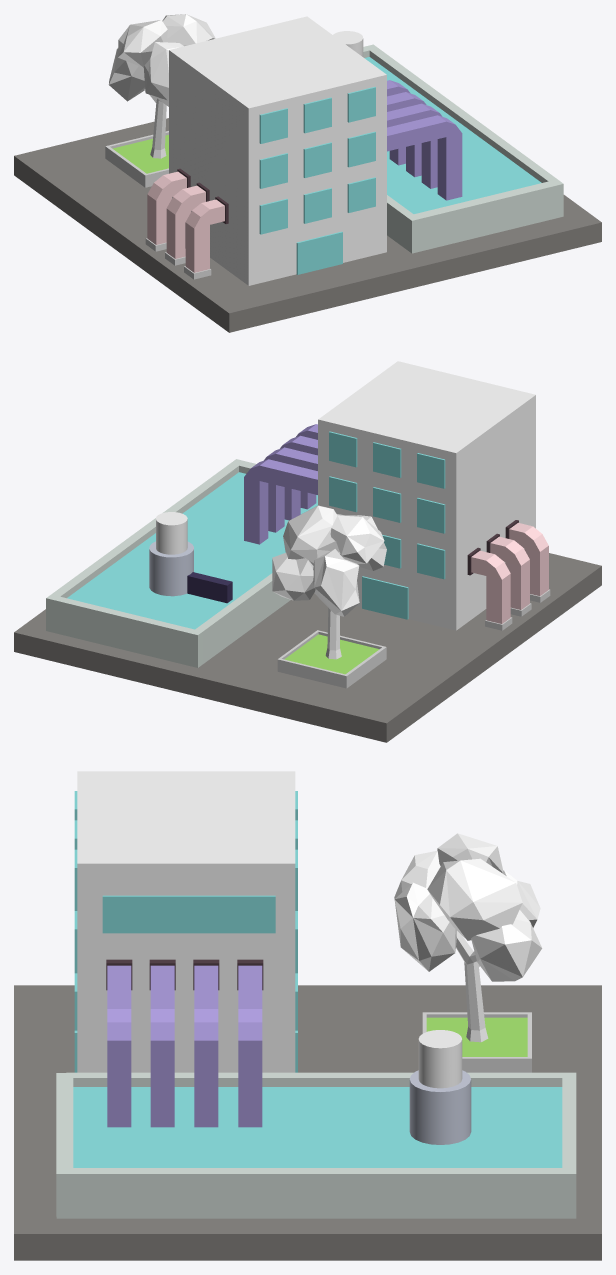
File: depot.glb
3 renders of one model, top to bottom at view 1: azimuth 30°, elevation 25°; view 2: azimuth 150°, elevation 25°; view 3: azimuth 270°, elevation 25°, orthographic. The views are drawn at different scales.
Parts seen in each view (by area): view 1: Cube_1, Cube, Water_Source, Tree_Type0_05, Cube__1_, Tree_Ground, Cube__7_, Cube__5_, Cube__6_, Door__7_, Cube__2_, Cube__3_ (+11 smaller); view 2: Cube_1, Cube, Water_Source, Tree_Type0_05, Tree_Ground, Cube__4_, Cube__5_, Cylinder, Cube__6_, Cube__7_, Door__6_, Cube__3_ (+11 smaller); view 3: Water_Source, Cube, Cube_1, Tree_Type0_05, Window_1, Tree_Ground, Cube__1_, Cube__2_, Cube__3_, Cube__4_, Cylinder, Cylinder__1_.
Boxes of the visible parts, bbox=[...] form: Cube_1: bbox=[169, 16, 386, 285]; Cube: bbox=[14, 118, 601, 332]; Water_Source: bbox=[363, 44, 563, 253]; Tree_Type0_05: bbox=[108, 14, 215, 158]; Cube__1_: bbox=[387, 115, 462, 200]; Tree_Ground: bbox=[105, 131, 168, 187]; Cube__7_: bbox=[185, 199, 224, 272]; Cube__5_: bbox=[147, 171, 186, 244]; Cube__6_: bbox=[166, 185, 205, 258]; Door__7_: bbox=[296, 231, 342, 274]; Cube__2_: bbox=[387, 103, 442, 188]; Cube__3_: bbox=[387, 92, 426, 177]; Cube_1: bbox=[318, 361, 535, 630]; Cube: bbox=[14, 553, 601, 742]; Water_Source: bbox=[46, 459, 317, 667]; Tree_Type0_05: bbox=[272, 505, 386, 659]; Tree_Ground: bbox=[277, 630, 386, 688]; Cube__4_: bbox=[244, 459, 317, 544]; Cube__5_: bbox=[471, 550, 510, 623]; Cylinder: bbox=[149, 541, 193, 596]; Cube__6_: bbox=[490, 536, 529, 609]; Cube__7_: bbox=[509, 522, 548, 595]; Door__6_: bbox=[362, 576, 408, 619]; Cube__3_: bbox=[264, 447, 317, 532]; Water_Source: bbox=[56, 1072, 576, 1218]; Cube: bbox=[14, 985, 601, 1260]; Cube_1: bbox=[77, 771, 295, 1072]; Tree_Type0_05: bbox=[394, 833, 542, 1042]; Window_1: bbox=[102, 895, 275, 933]; Tree_Ground: bbox=[422, 1012, 531, 1072]; Cube__1_: bbox=[107, 965, 131, 1127]; Cube__2_: bbox=[150, 965, 174, 1127]; Cube__3_: bbox=[194, 965, 218, 1127]; Cube__4_: bbox=[238, 965, 262, 1127]; Cylinder: bbox=[409, 1070, 471, 1144]; Cylinder__1_: bbox=[418, 1030, 462, 1088].
Size of the model in its own units: 1 by 0.5051 by 1.
